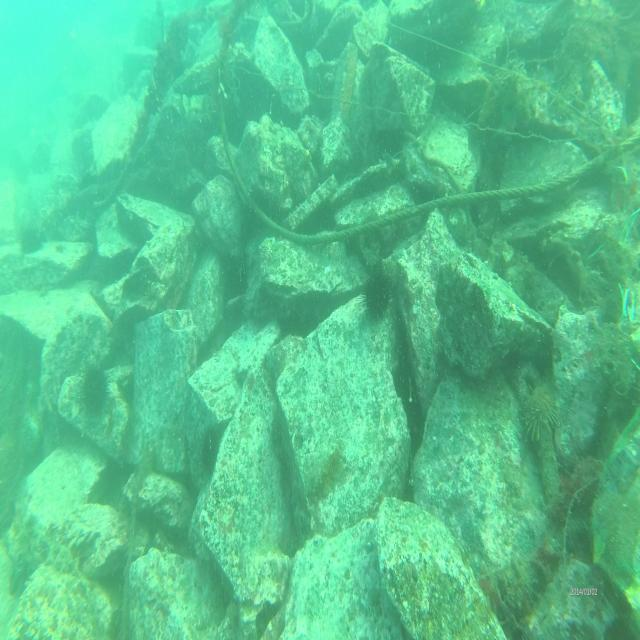echinus: (519, 379, 560, 446), (76, 361, 110, 421), (359, 271, 392, 328), (195, 420, 221, 480)
